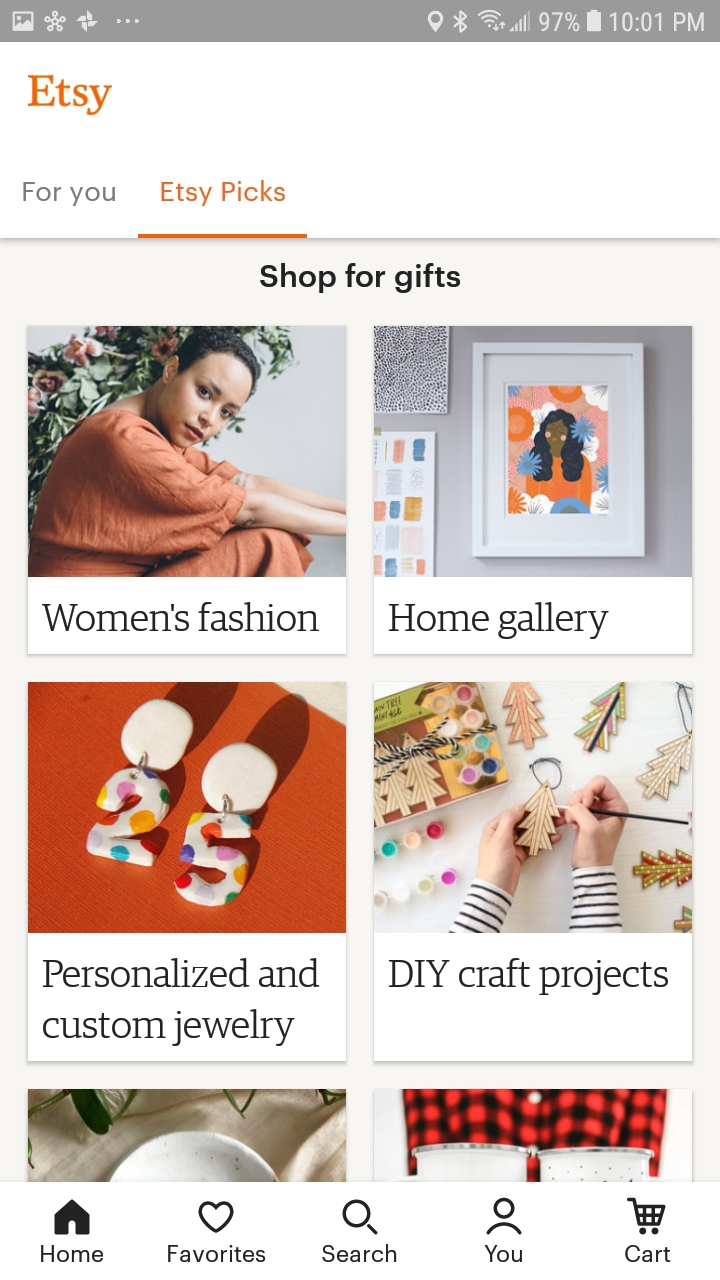Icon: (627, 1197, 666, 1236), (486, 1197, 523, 1236), (342, 1199, 378, 1235), (55, 1199, 91, 1235), (198, 1200, 235, 1233)
Image: (29, 682, 347, 933), (374, 326, 692, 577), (28, 327, 347, 577), (374, 683, 691, 934), (373, 1089, 693, 1182), (29, 1089, 347, 1182)
Text: (43, 957, 321, 1047), (388, 958, 669, 996), (389, 601, 610, 640), (43, 602, 321, 633), (260, 263, 461, 294), (161, 179, 286, 207), (28, 75, 113, 116), (23, 182, 116, 208), (168, 1244, 267, 1263), (322, 1243, 397, 1262), (41, 1244, 105, 1263), (625, 1244, 671, 1263), (484, 1244, 523, 1263)
UpperTaskBar: (1, 1, 720, 43)
